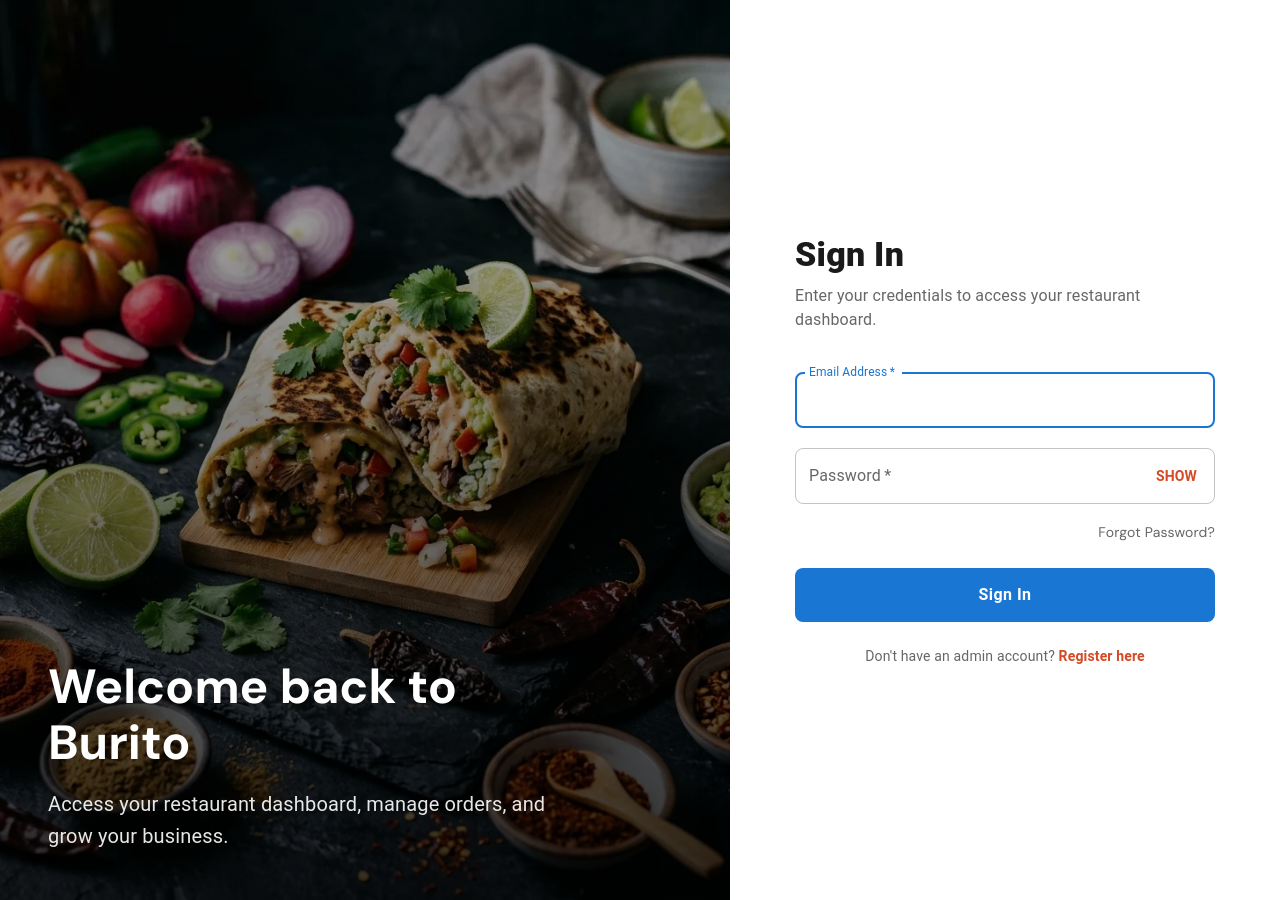
Test case: AdminLoginPage › displays error on failed login
Type "admin@test.com" into the field labelled "Email Address *" at point(1005, 400), box [795,372,1215,428]
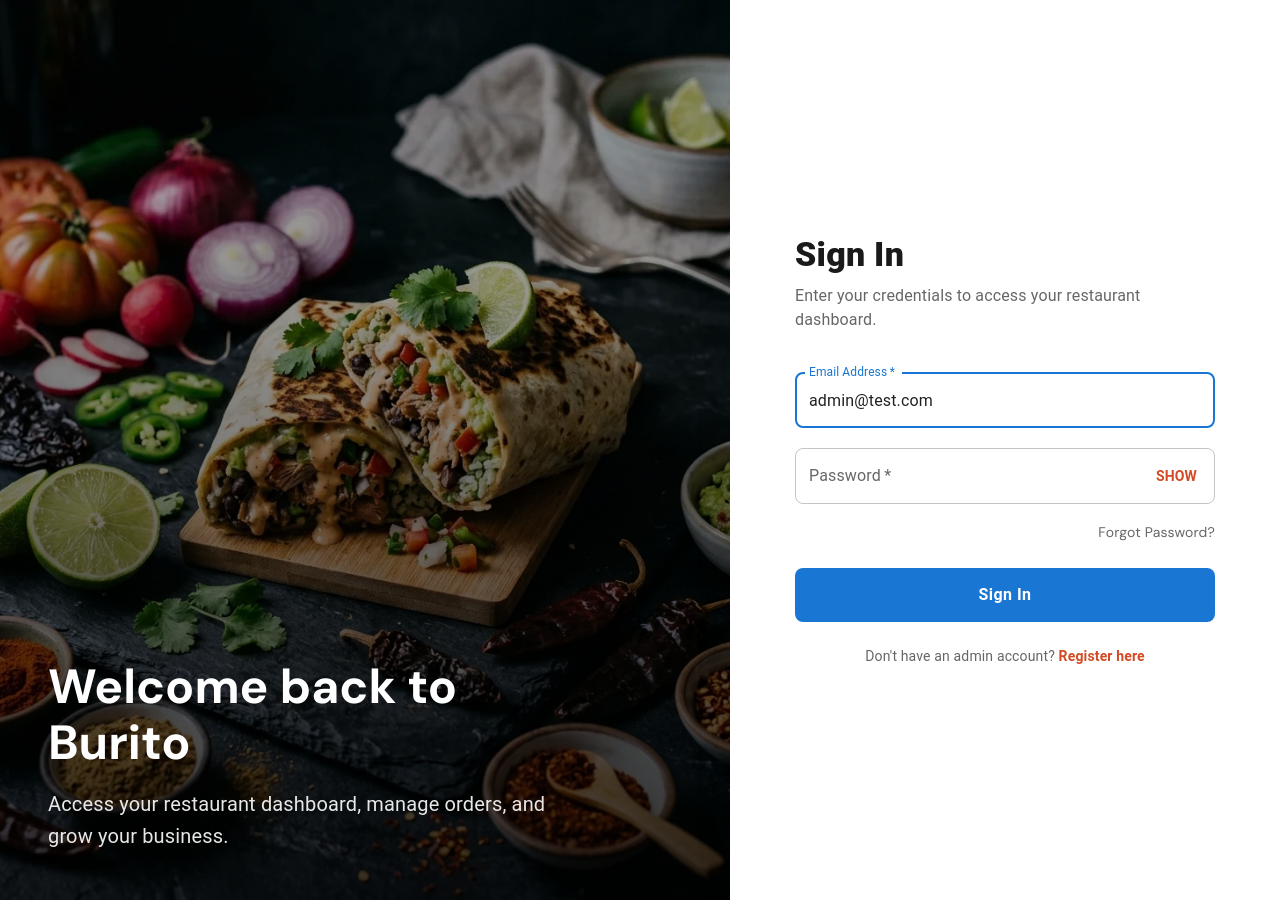
Type "wrongpass" into the password field labelled "Password *" at point(968, 476), box [795,448,1140,504]
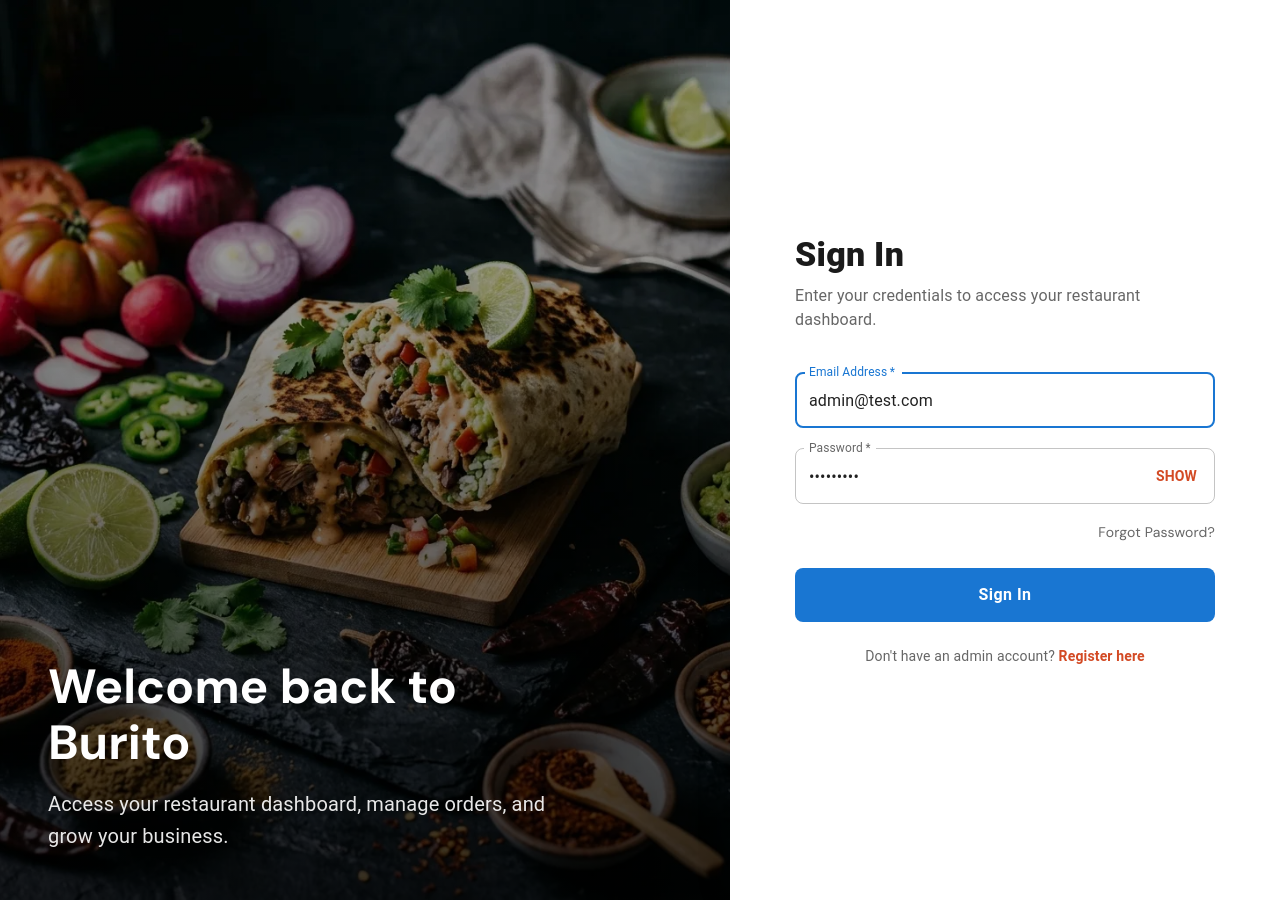
Click the button "Sign In" at point(1005, 595), box [795,568,1215,622]
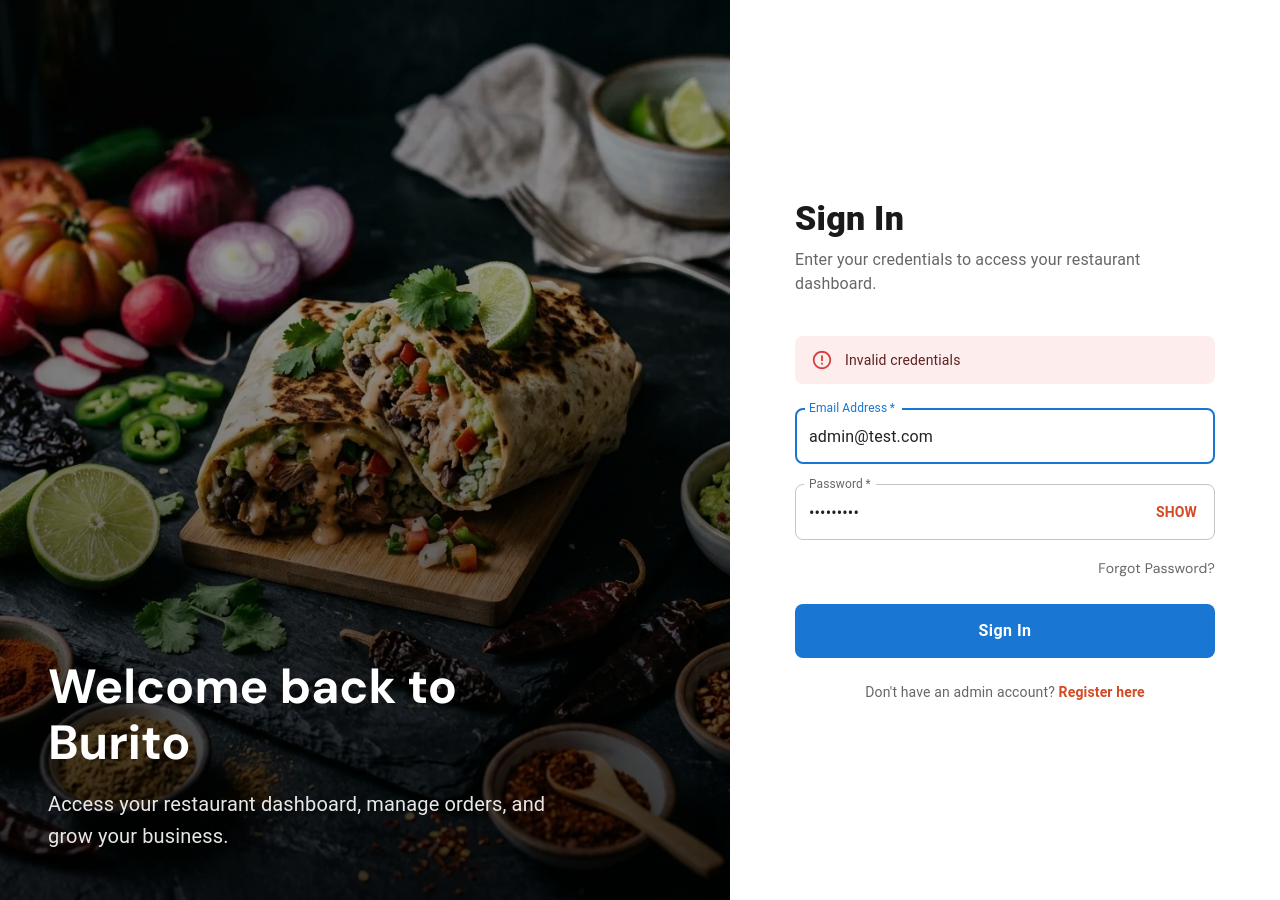
Expected: the text "Invalid credentials" is shown, [845,352,960,368]
